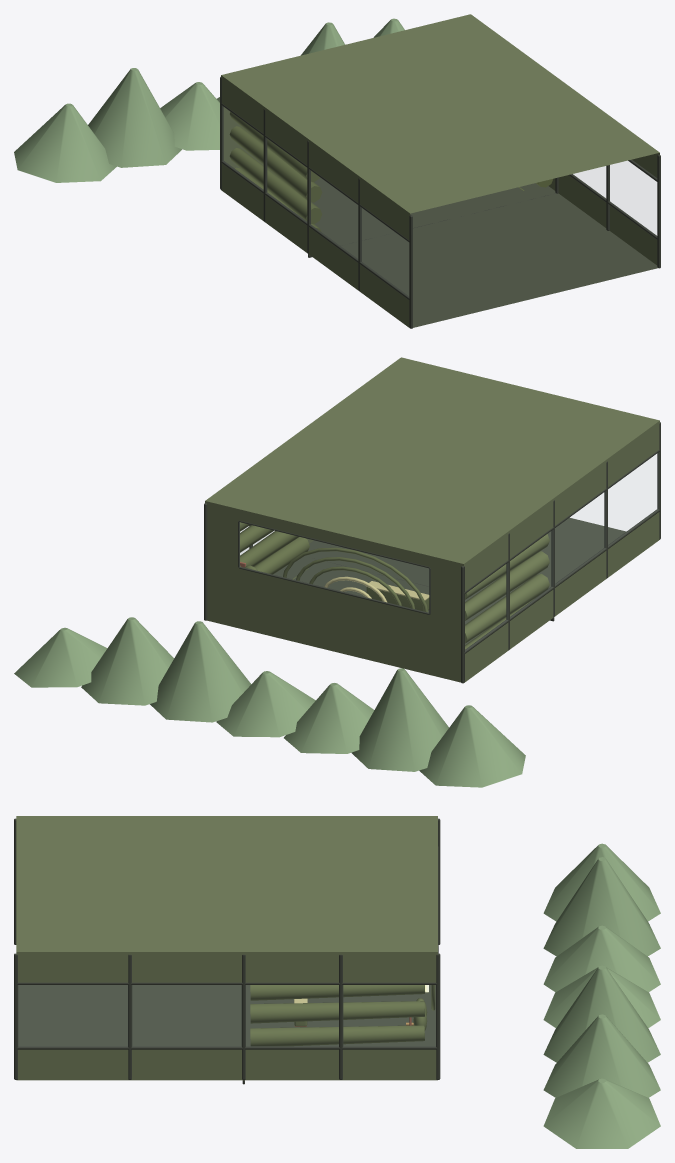
File: cantina.glb
3 views of the same model, one above another, from view 1: azimuth 30°, elevation 25°; view 2: azimuth 150°, elevation 25°; view 3: azimuth 270°, elevation 25° (orthographic). The views are drawn at different scales.
Visible parts, largest first — view 1: Roof panels - Wall, Floor extension - Floor, Outside the glazing - Glass rim, Port wall - Wall, Floor - Floor, Signature architecture - Secondary, Port wall - Rib, Starboard wall - Wall, Starboard wall - Rib, Rear bulkhead - Wall; view 2: Roof panels - Wall, Outside the glazing - Glass rim, Rear bulkhead - Wall, Port wall - Wall, Signature architecture - Secondary, Floor extension - Floor, Port wall - Rib, Floor - Floor, Rear bulkhead - Rib; view 3: Roof panels - Wall, Outside the glazing - Glass rim, Starboard wall - Wall, Floor extension - Floor, Signature architecture - Secondary, Starboard wall - Rib, Floor - Floor, Port wall - Rib.
Part boxes in pixels (x1=…): Roof panels - Wall: x1=221, y1=14, x2=659, y2=213; Floor extension - Floor: x1=341, y1=193, x2=657, y2=327; Outside the glazing - Glass rim: x1=14, y1=18, x2=404, y2=182; Port wall - Wall: x1=221, y1=75, x2=410, y2=327; Floor - Floor: x1=278, y1=177, x2=555, y2=245; Signature architecture - Secondary: x1=229, y1=112, x2=552, y2=231; Port wall - Rib: x1=220, y1=77, x2=412, y2=328; Starboard wall - Wall: x1=549, y1=153, x2=659, y2=265; Starboard wall - Rib: x1=555, y1=154, x2=660, y2=268; Rear bulkhead - Wall: x1=223, y1=107, x2=276, y2=175; Roof panels - Wall: x1=205, y1=357, x2=659, y2=563; Outside the glazing - Glass rim: x1=14, y1=617, x2=525, y2=787; Rear bulkhead - Wall: x1=205, y1=501, x2=463, y2=682; Port wall - Wall: x1=464, y1=421, x2=659, y2=682; Signature architecture - Secondary: x1=240, y1=522, x2=549, y2=649; Floor extension - Floor: x1=304, y1=517, x2=626, y2=602; Port wall - Rib: x1=461, y1=422, x2=660, y2=683; Floor - Floor: x1=273, y1=556, x2=495, y2=644; Rear bulkhead - Rib: x1=238, y1=520, x2=430, y2=614; Roof panels - Wall: x1=16, y1=816, x2=437, y2=951; Outside the glazing - Glass rim: x1=543, y1=843, x2=660, y2=1148; Starboard wall - Wall: x1=16, y1=952, x2=437, y2=1080; Floor extension - Floor: x1=18, y1=985, x2=241, y2=1046; Signature architecture - Secondary: x1=250, y1=985, x2=435, y2=1046; Starboard wall - Rib: x1=14, y1=953, x2=440, y2=1079; Floor - Floor: x1=246, y1=985, x2=435, y2=1046; Port wall - Rib: x1=14, y1=818, x2=440, y2=944.
Size of the model in its own units: 36.79 by 9.43 by 38.64.
